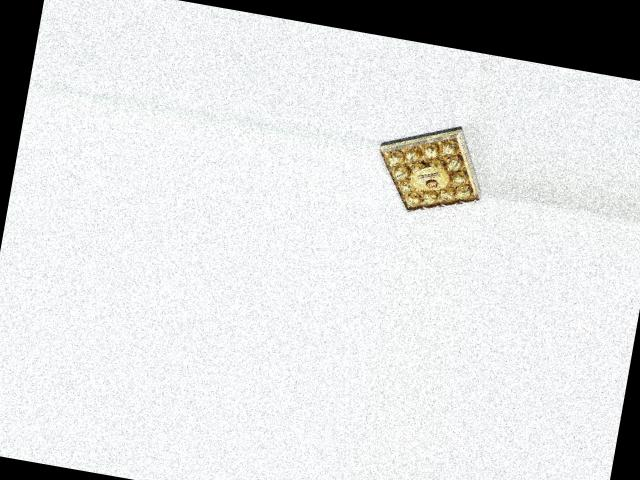chocolate: (367, 110, 494, 226)
